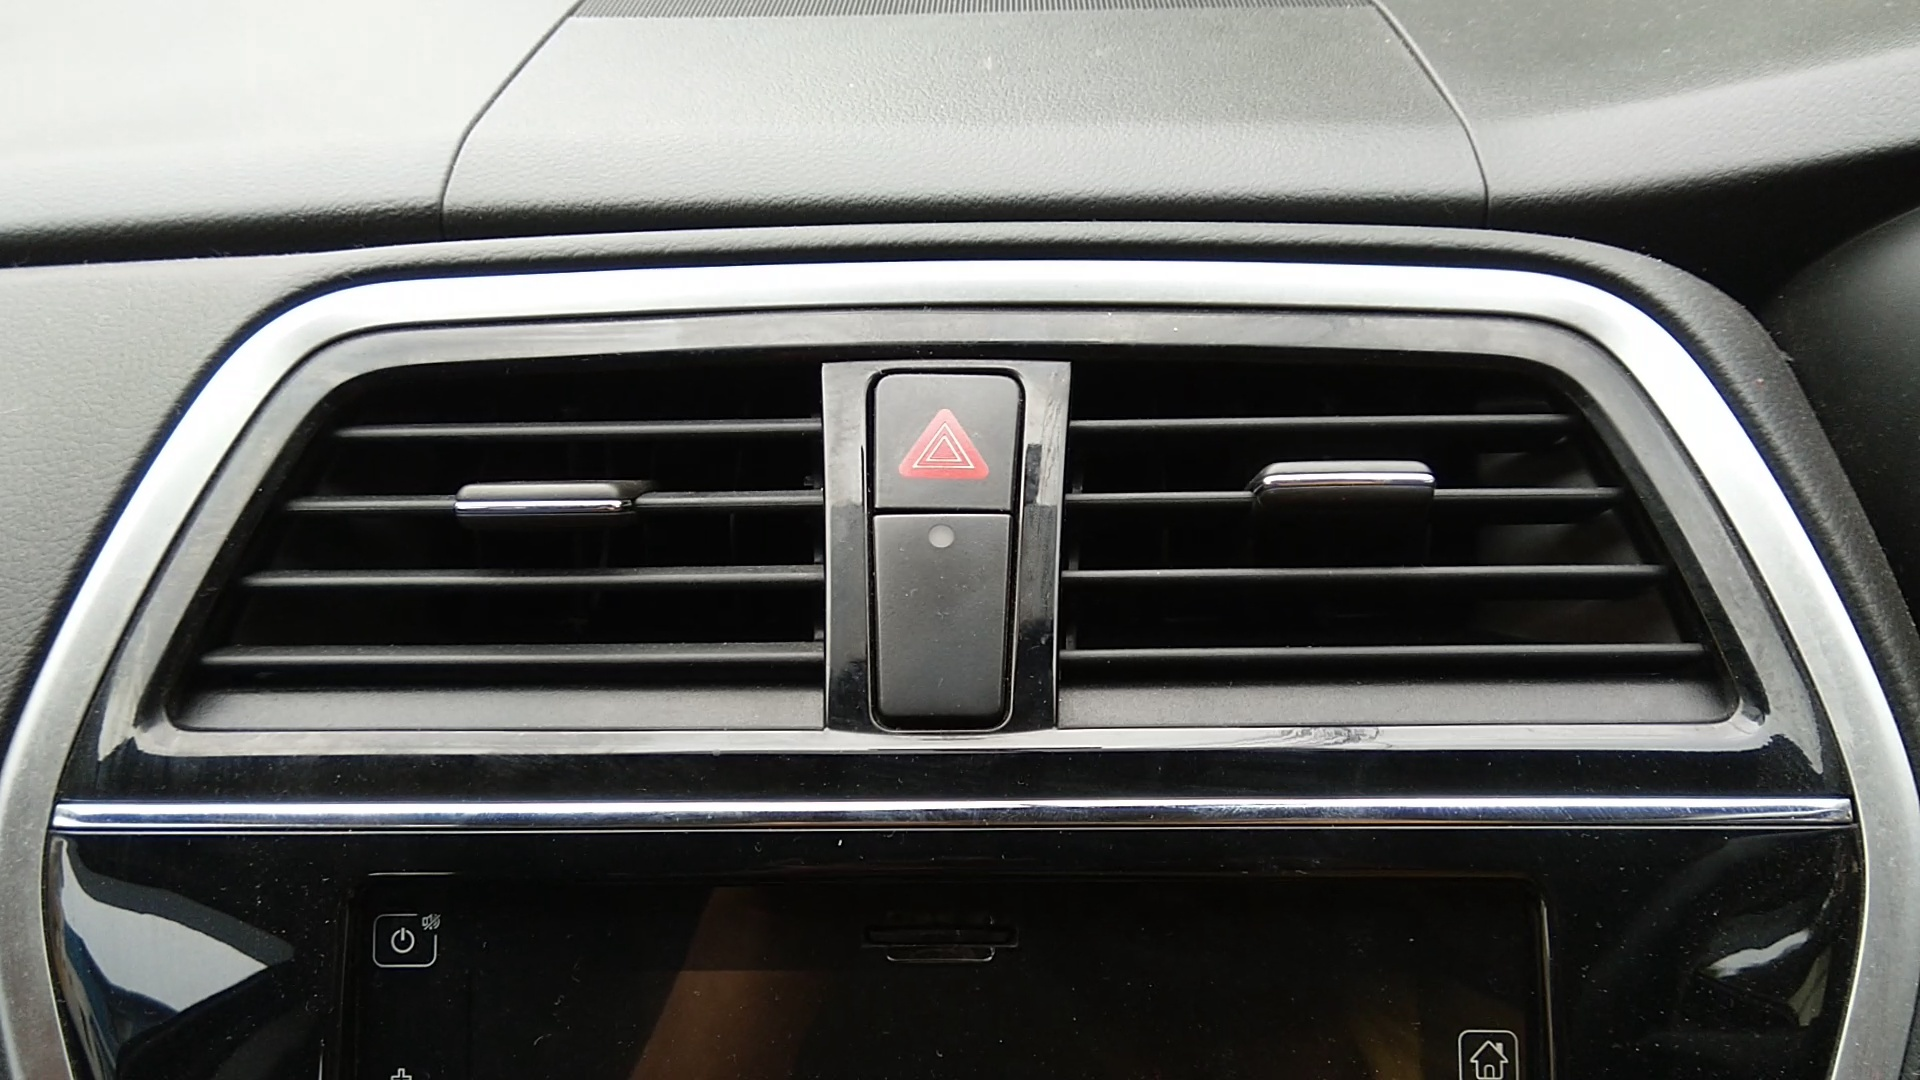parking_button: (886, 385, 1001, 491)
